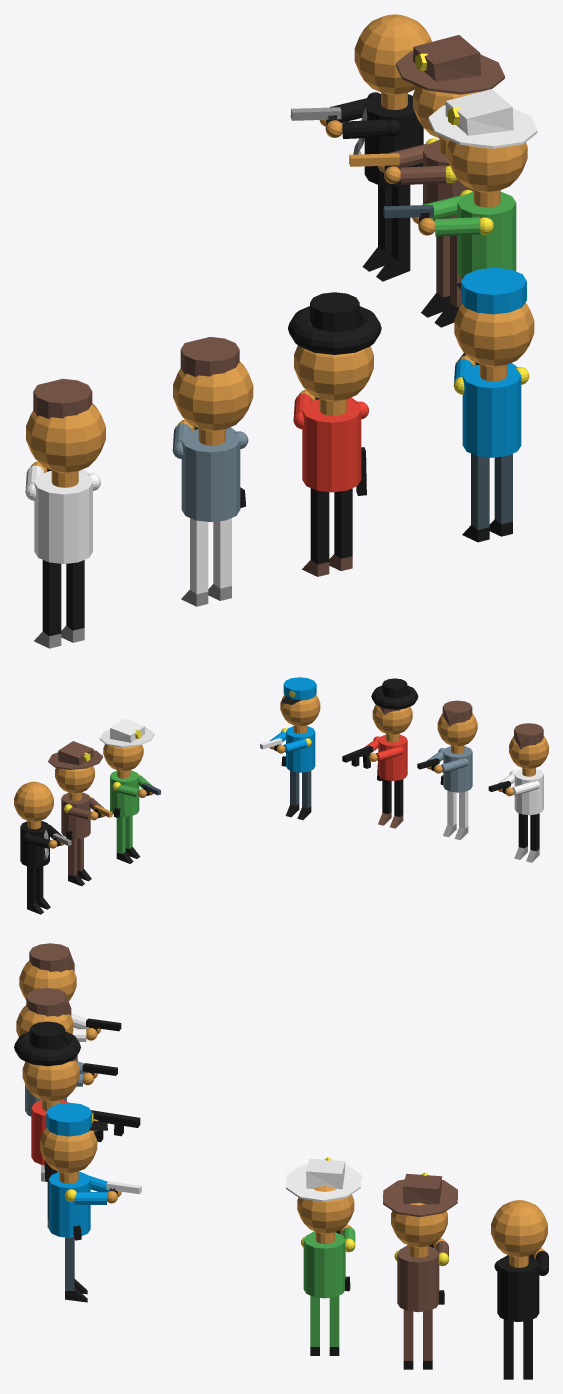
Rendered from scene_T04hSG07Bm.glb.
3 views of the same model, one above another, from view 1: azimuth 30°, elevation 25°; view 2: azimuth 150°, elevation 25°; view 3: azimuth 270°, elevation 25° (orthographic). The views are drawn at different scales.
Parts seen in each view (by area): view 1: group256844527, group1737712937, group1275868700, group1290398196, group1247201257, group1082484435, group656217765, group928925368, group1511835755, group1133419323, group227899553, group810639544 (+22 smaller); view 2: group1133419323, group656217765, group1247201257, group1082484435, group1737712937, group256844527, group1275868700, group1290398196, group1854382820, group810639544, group39985127, group928925368 (+20 smaller); view 3: group1133419323, group1082484435, group39985127, group1247201257, group1854382820, group810639544, group656217765, group1737712937, group227899553, group1646091293, group1675458221, group1094152804 (+11 smaller).
Part boxes in pixels (<box>): group256844527: <box>302,399,361,492</box>; group1737712937: <box>462,364,521,457</box>; group1275868700: <box>181,429,240,521</box>; group1290398196: <box>34,471,92,563</box>; group1247201257: <box>428,89,537,148</box>; group1082484435: <box>395,35,504,94</box>; group656217765: <box>288,292,381,354</box>; group928925368: <box>173,361,253,431</box>; group1511835755: <box>26,403,105,473</box>; group1133419323: <box>354,14,431,95</box>; group227899553: <box>454,302,534,367</box>; group810639544: <box>457,191,516,278</box>; group1133419323: <box>14,781,53,821</box>; group656217765: <box>371,678,418,709</box>; group1247201257: <box>99,718,154,747</box>; group1082484435: <box>48,741,102,769</box>; group1737712937: <box>286,726,315,772</box>; group256844527: <box>378,734,407,780</box>; group1275868700: <box>443,746,472,792</box>; group1290398196: <box>514,768,543,815</box>; group1854382820: <box>61,792,90,838</box>; group810639544: <box>110,770,139,816</box>; group39985127: <box>20,821,49,867</box>; group928925368: <box>437,713,477,746</box>; group1133419323: <box>491,1200,547,1257</box>; group1082484435: <box>383,1172,457,1217</box>; group39985127: <box>497,1255,539,1321</box>; group1247201257: <box>286,1157,361,1201</box>; group1854382820: <box>397,1246,439,1312</box>; group810639544: <box>303,1232,345,1298</box>; group656217765: <box>14,1021,80,1066</box>; group1737712937: <box>48,1171,90,1237</box>; group227899553: <box>40,1127,97,1173</box>; group1646091293: <box>22,1061,79,1101</box>; group1675458221: <box>297,1186,354,1233</box>; group1094152804: <box>391,1203,447,1247</box>.
Size of the model in its own units: 1.86 by 0.7386 by 1.66.
